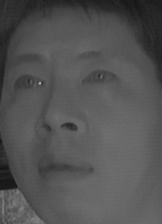eye: (79, 64, 122, 92), (10, 70, 47, 94)
mouth: (34, 151, 97, 190)
